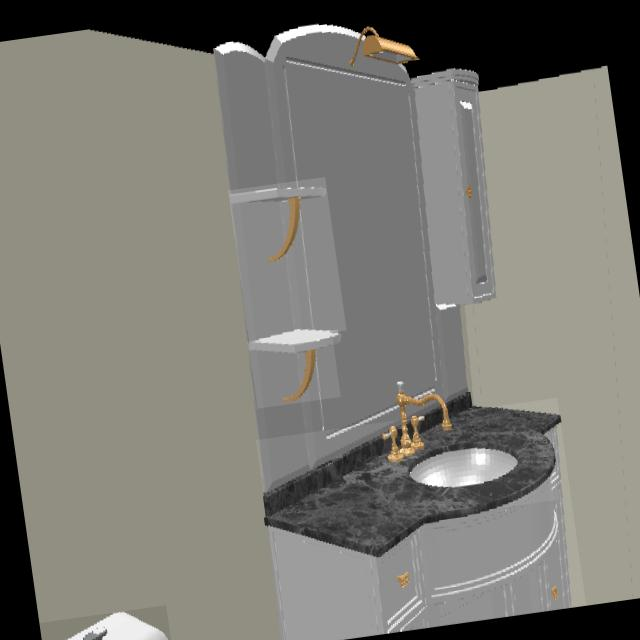cabinet: (268, 410, 573, 640)
shelf: (230, 185, 327, 343), (251, 334, 333, 408)
toilet: (68, 612, 168, 640)
washbasin: (372, 443, 554, 511)
